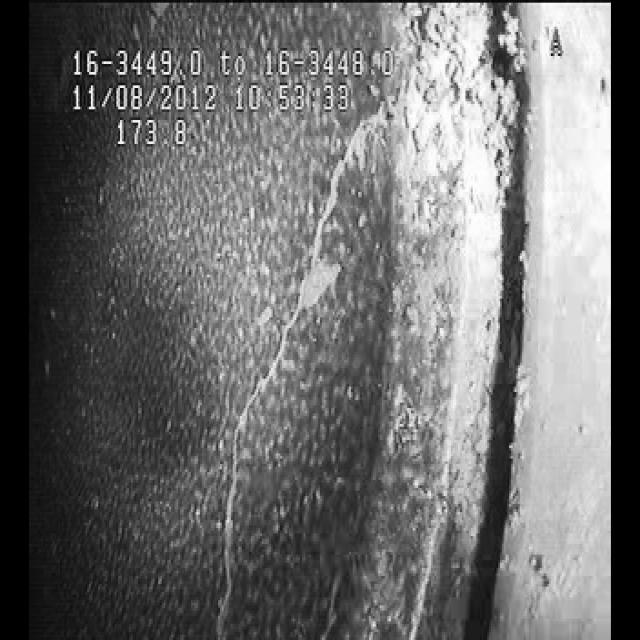Crack: (210, 122, 380, 624)
